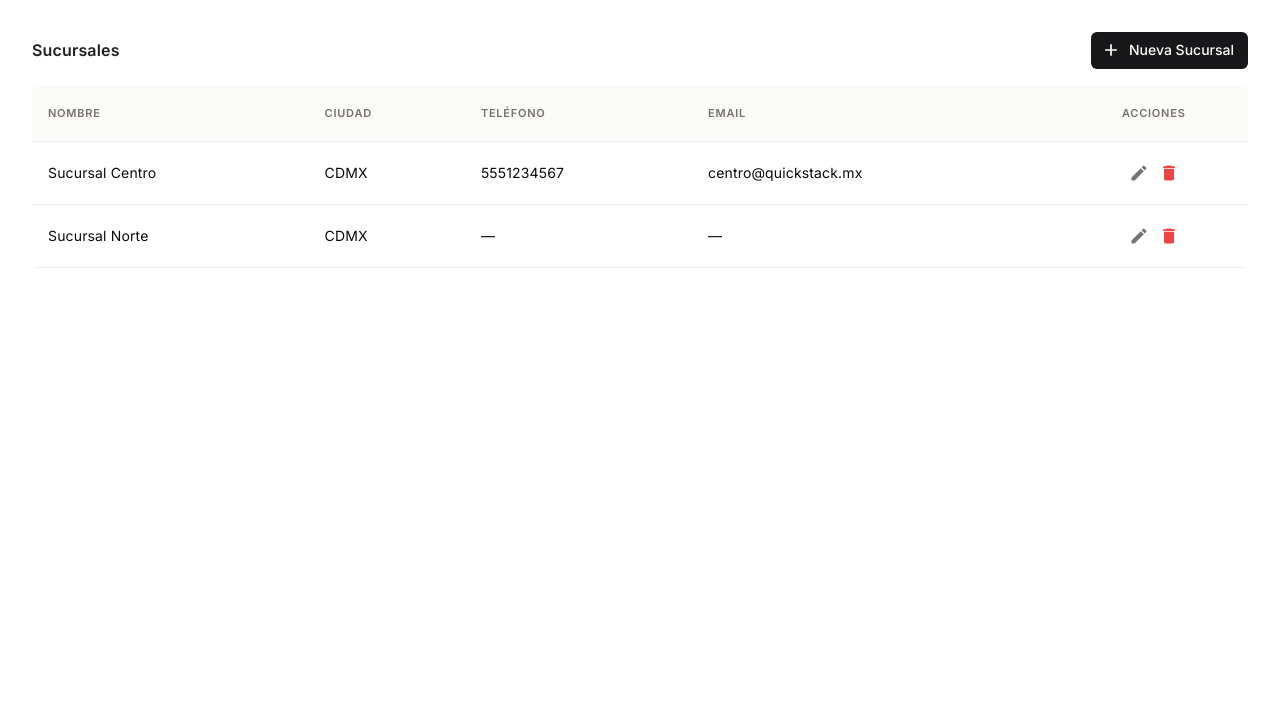
BranchList › creates a branch
Check: the text "Sucursal Centro" is shown, box x1=32 y1=141 x2=308 y2=204
Step 1. Click the button "Nueva Sucursal" → (1170, 50), box x1=1091 y1=32 x2=1248 y2=68
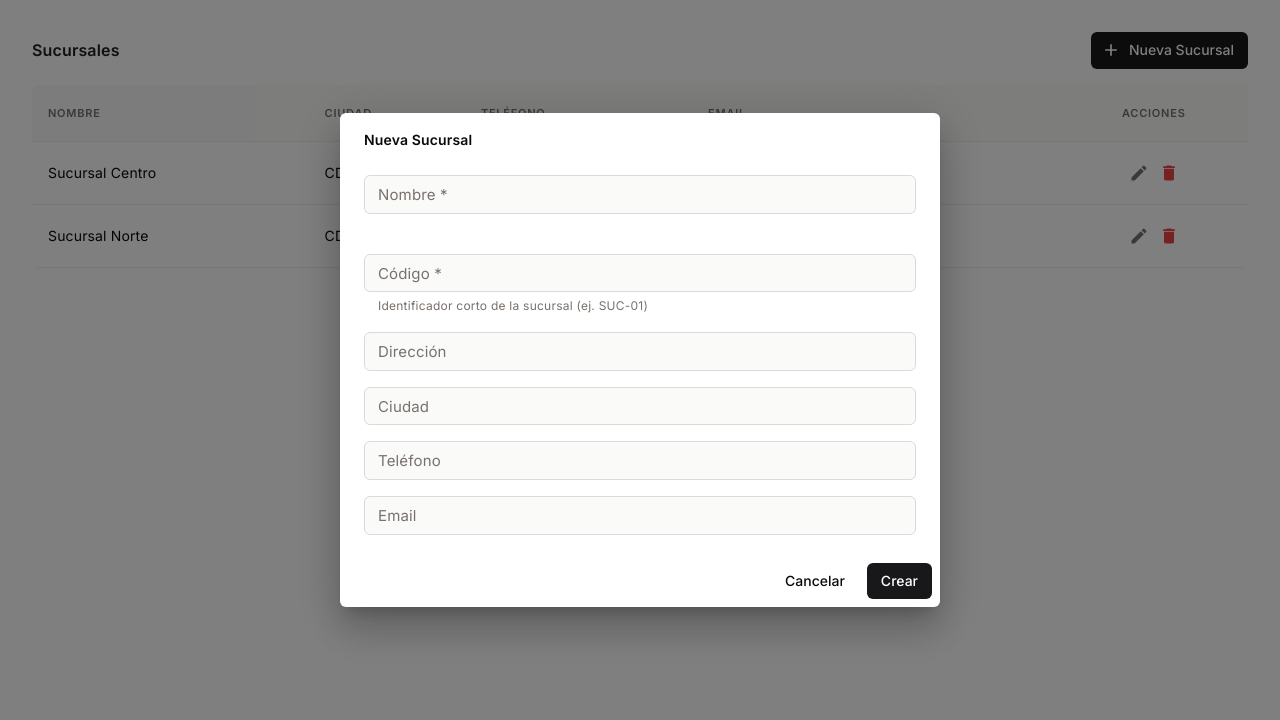
Step 2. Type "Sucursal Sur" into the field named "nombre sucursal" → (640, 195), box x1=364 y1=175 x2=916 y2=214
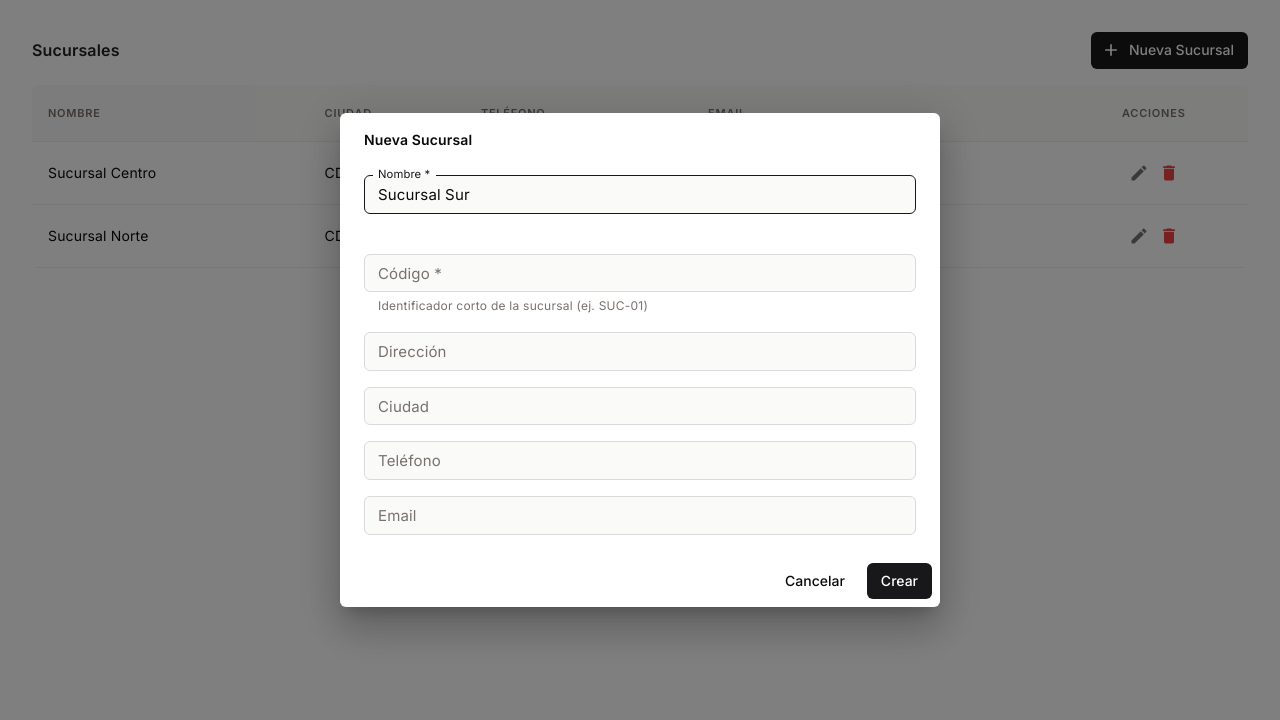
Step 3. Type "SUC-03" into the field named "código sucursal" → (640, 273), box x1=364 y1=254 x2=916 y2=292
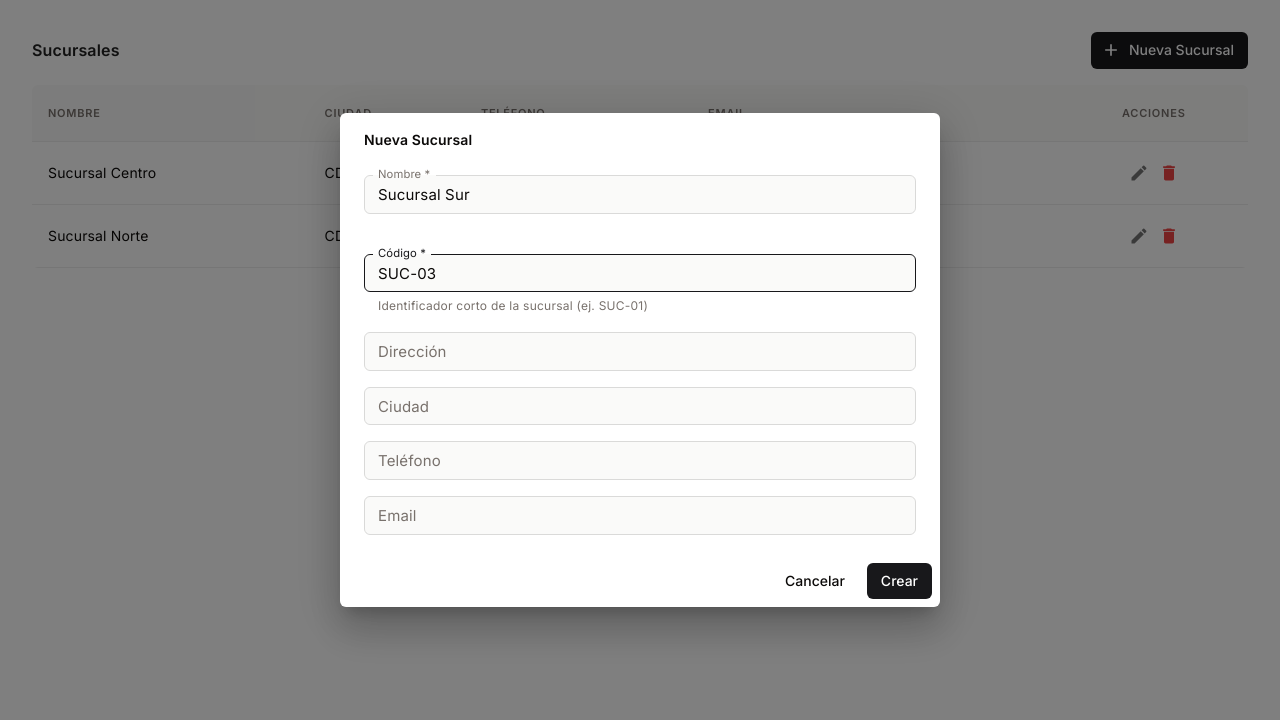
Step 4. Click the button "Crear" → (899, 581), box x1=867 y1=562 x2=932 y2=599
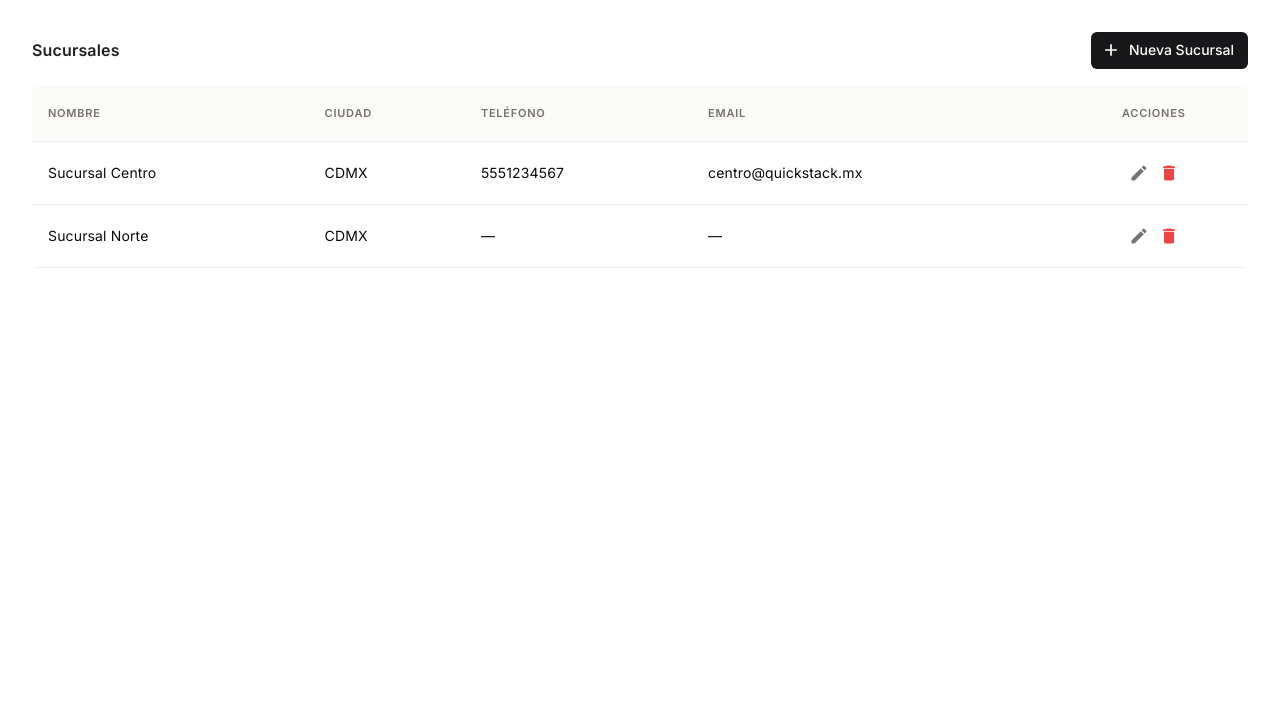
Check: the dialog is gone
